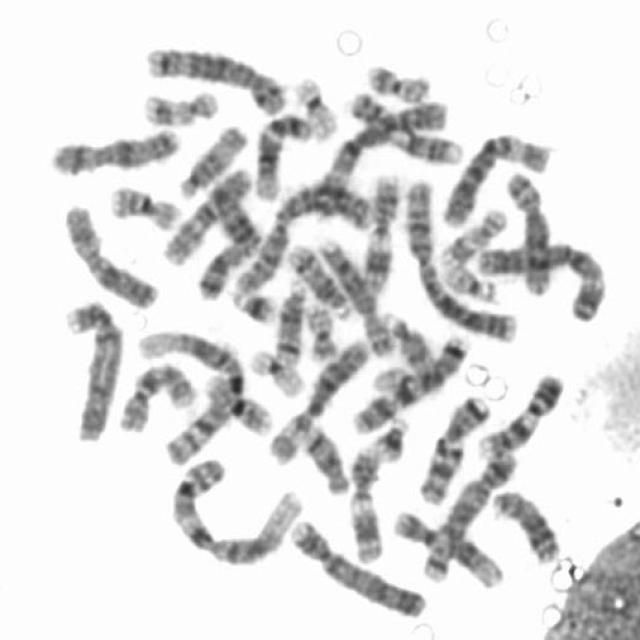A1: (129, 321, 250, 466), (164, 448, 308, 568)
A2: (397, 171, 521, 344), (228, 172, 378, 297)
A3: (305, 89, 453, 224), (469, 230, 610, 324)
B4: (282, 510, 428, 620), (54, 290, 126, 443)
B5: (414, 440, 521, 584), (136, 36, 290, 115)
C10: (154, 158, 254, 268), (110, 354, 199, 434)
C11: (353, 164, 402, 296), (340, 438, 387, 566)
C12: (383, 500, 506, 590), (247, 102, 315, 201)
C6: (261, 327, 373, 465), (435, 123, 555, 228)
C7: (344, 326, 472, 435), (411, 384, 493, 506)
C8: (308, 227, 398, 359), (497, 160, 557, 297)
C9: (342, 82, 464, 166), (470, 363, 566, 459)
D13: (484, 480, 563, 564), (199, 172, 263, 256)
D14: (281, 233, 354, 321), (264, 270, 309, 367)
D15: (170, 114, 250, 199), (373, 305, 440, 380)
E16: (196, 363, 275, 436), (102, 175, 184, 232)
E17: (433, 198, 511, 268), (136, 80, 222, 127)
E18: (190, 229, 256, 302), (294, 414, 352, 496)
F19: (286, 66, 341, 142), (242, 338, 308, 399)
F20: (359, 53, 435, 103), (297, 294, 340, 362)
G21: (222, 278, 280, 326), (364, 408, 412, 464)
G22: (436, 252, 499, 303), (366, 358, 418, 395)
X: (54, 194, 160, 312), (42, 116, 183, 178)
